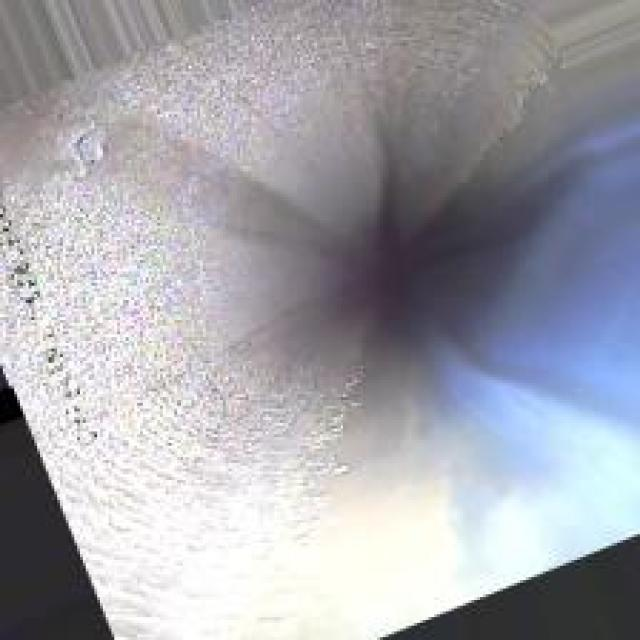ferrule: (54, 112, 114, 168)
